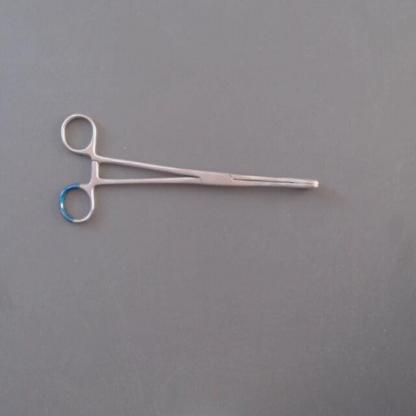Sponge Forceps: (52, 104, 326, 233)
